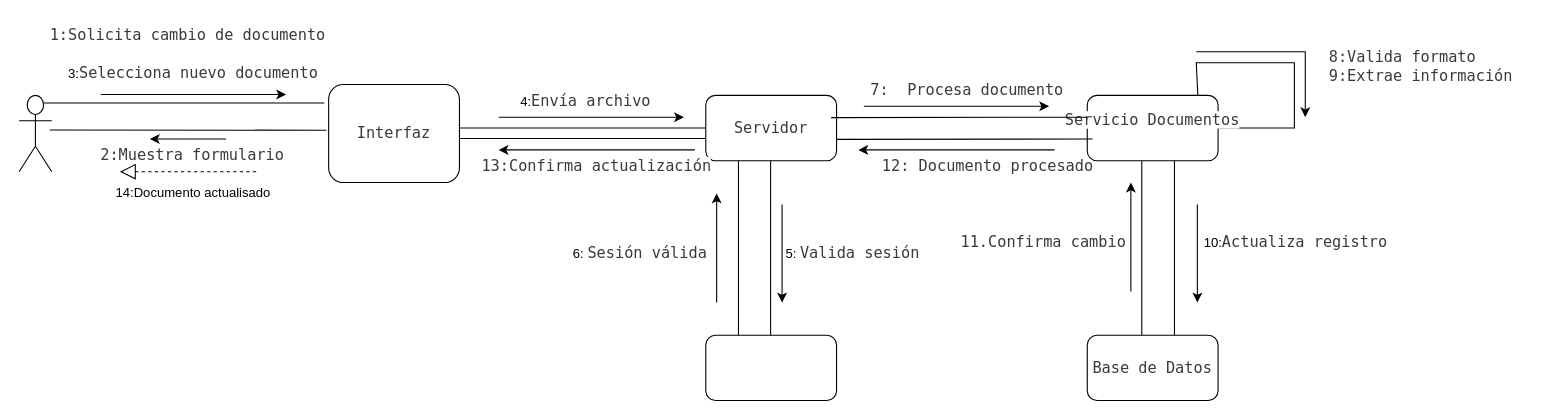
The diagram is 1553 pixels wide and 420 high, and some of its shapes have lost their labels. The box of each missing label's shape, as (x1, y1, x2, y2) in pixels:
Actor: (18, 94, 52, 172)
Autenticación: (705, 334, 837, 401)
